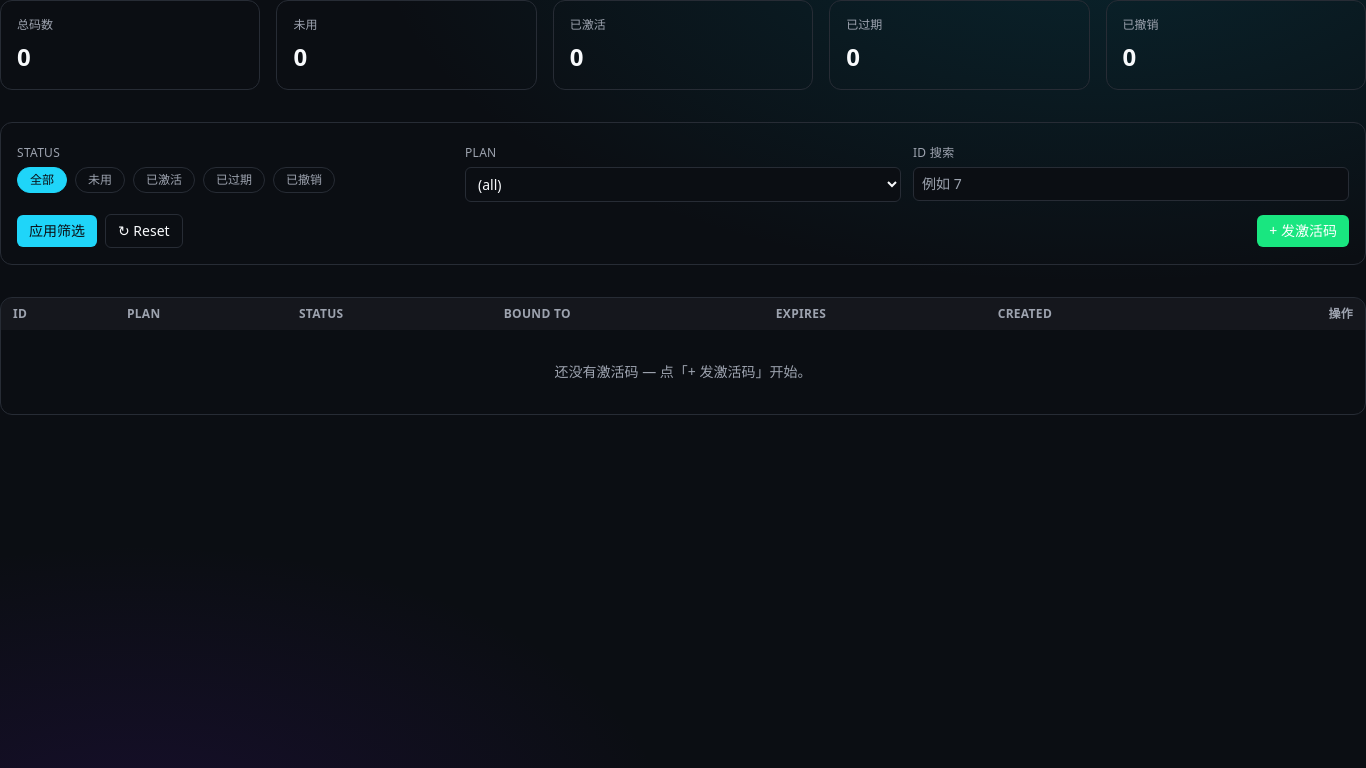
Scenario: ActivationCodesPanel › shows an error banner when the fetch fails
Click the button with test id "btn-reset". click: point(144, 231)
box: [105,214,183,248]
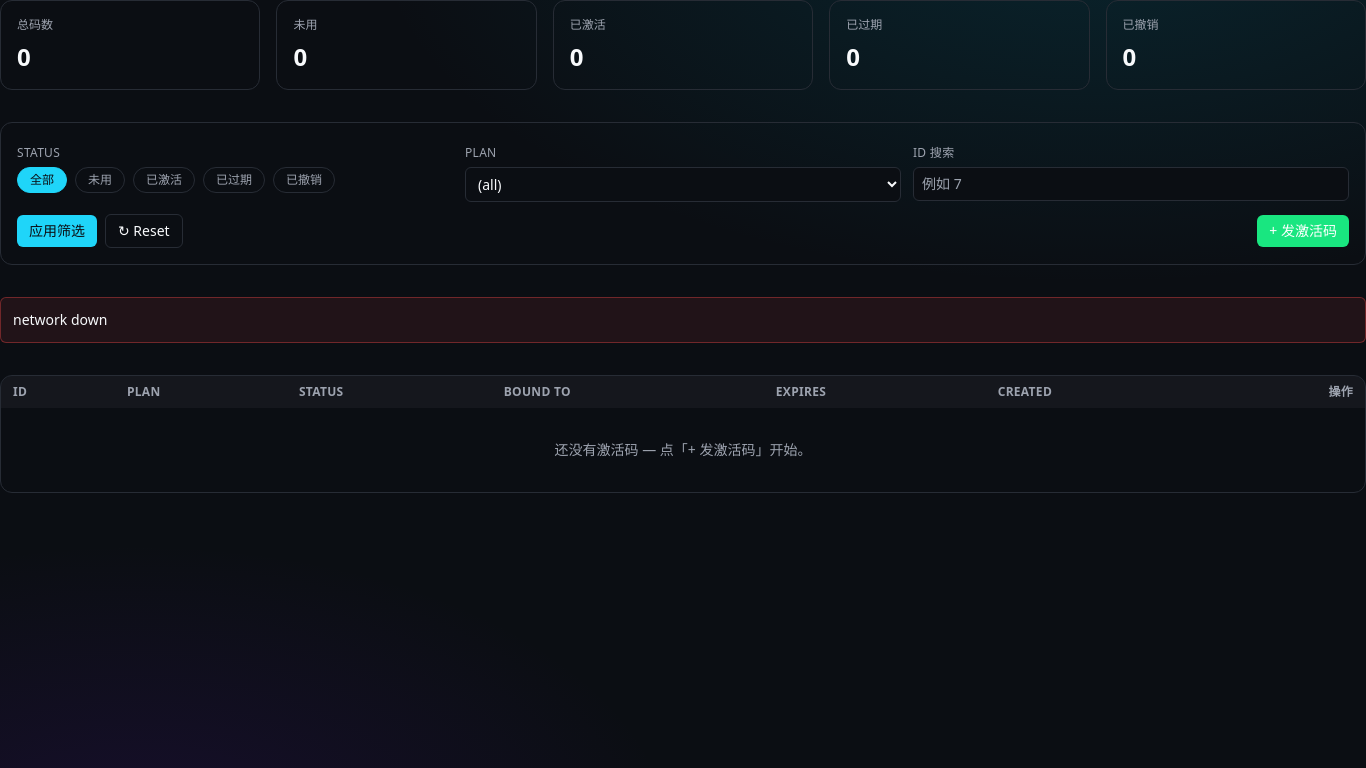
Expected: the text with test id "activation-error" reads "network down", [13,310,107,329]
